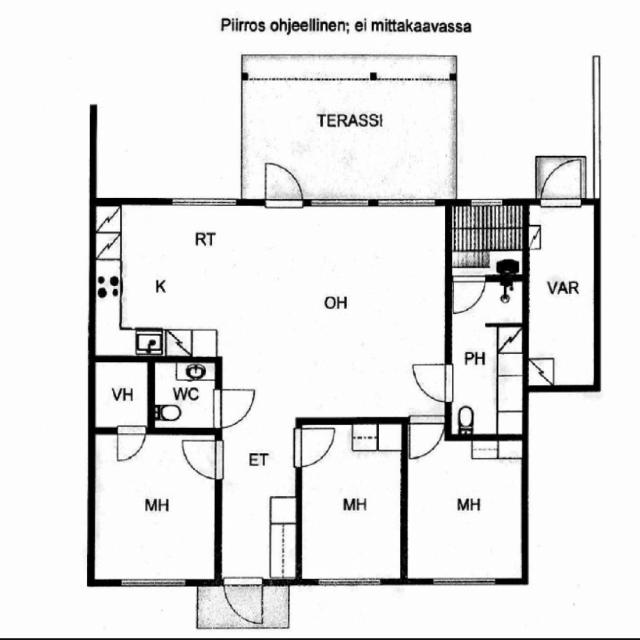door: (223, 578, 262, 626), (541, 156, 580, 204), (265, 158, 302, 205), (178, 439, 221, 478), (214, 388, 256, 426), (295, 428, 336, 466), (410, 364, 451, 401), (410, 417, 444, 460), (452, 275, 486, 317), (117, 427, 145, 463)
